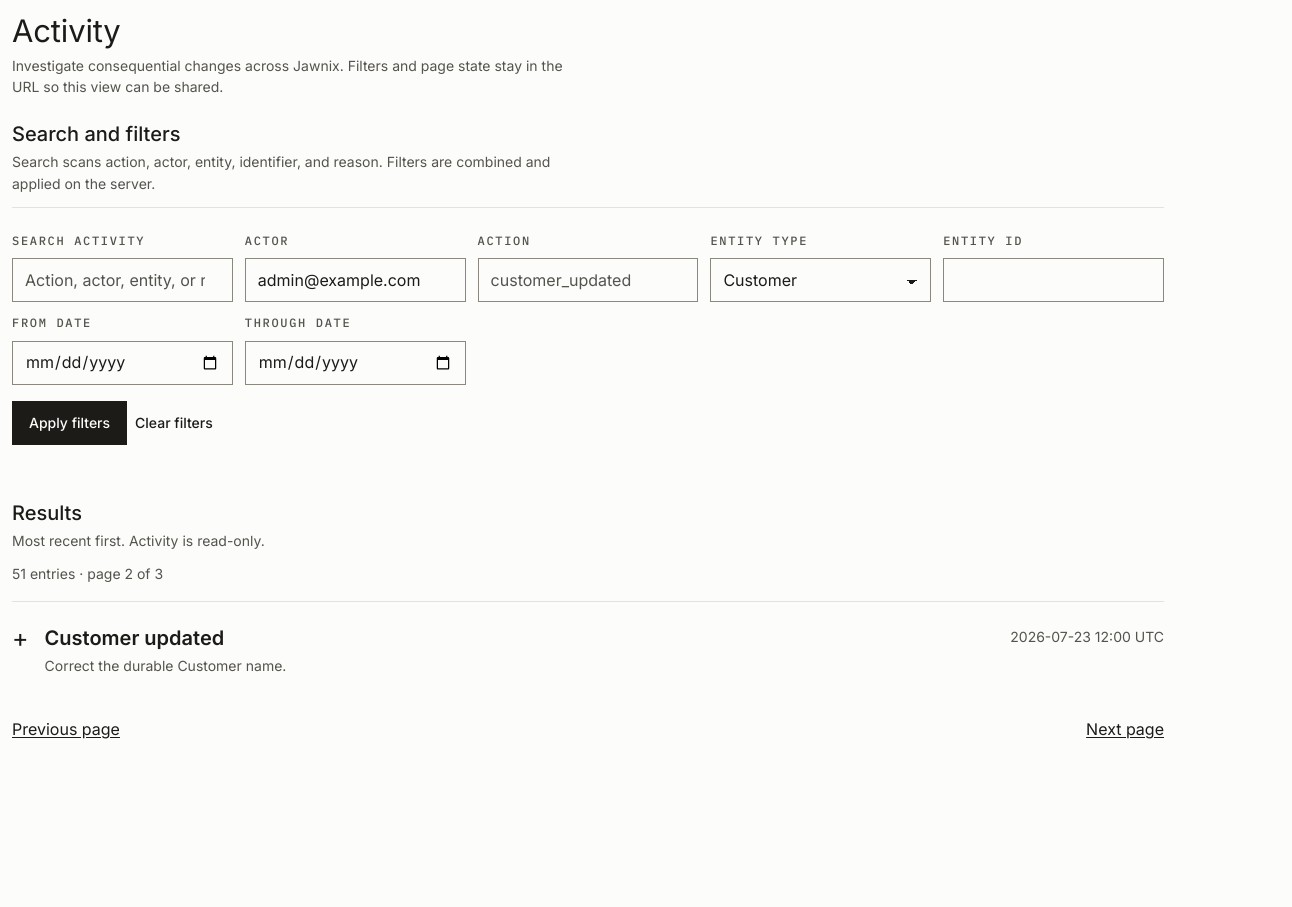
Test: administrator Activity › keeps log detail collapsed until requested, then shows attribution and safe changes
Expected: the heading "Activity" is shown, [12,12,121,49]
Expected: the field labelled "Actor" holds "admin@example.com", [245,258,466,302]
Click the text "Customer updated" at [134, 638], box [44,626,224,650]
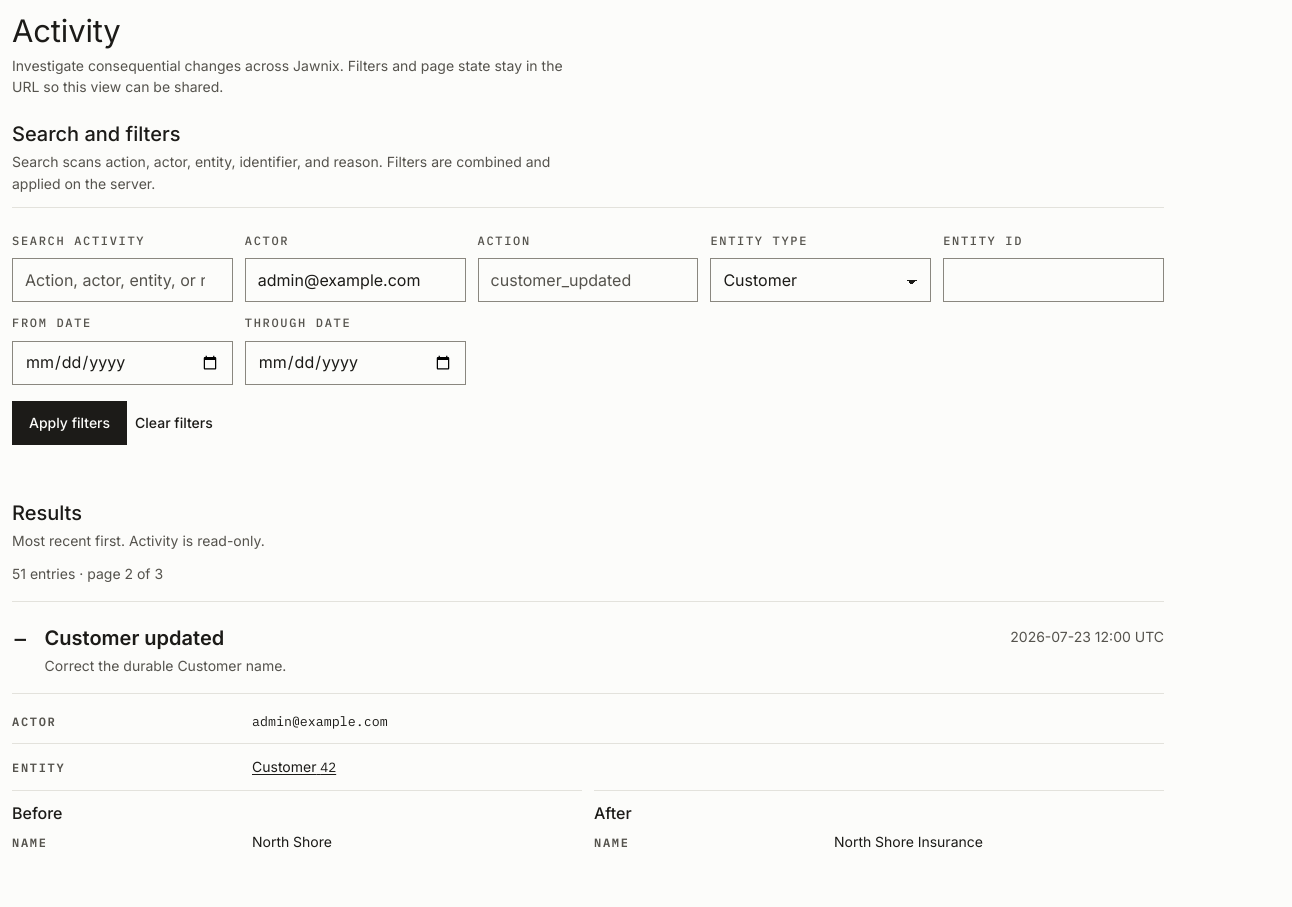
Result: the text "admin@example.com" is shown at [252,712,388,730]
Result: the text "North Shore" is shown at [252,833,332,850]
Result: the text "North Shore Insurance" is shown at [834,833,983,850]
